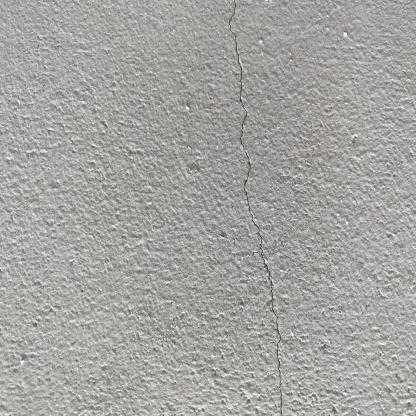crack: (229, 0, 282, 416)
